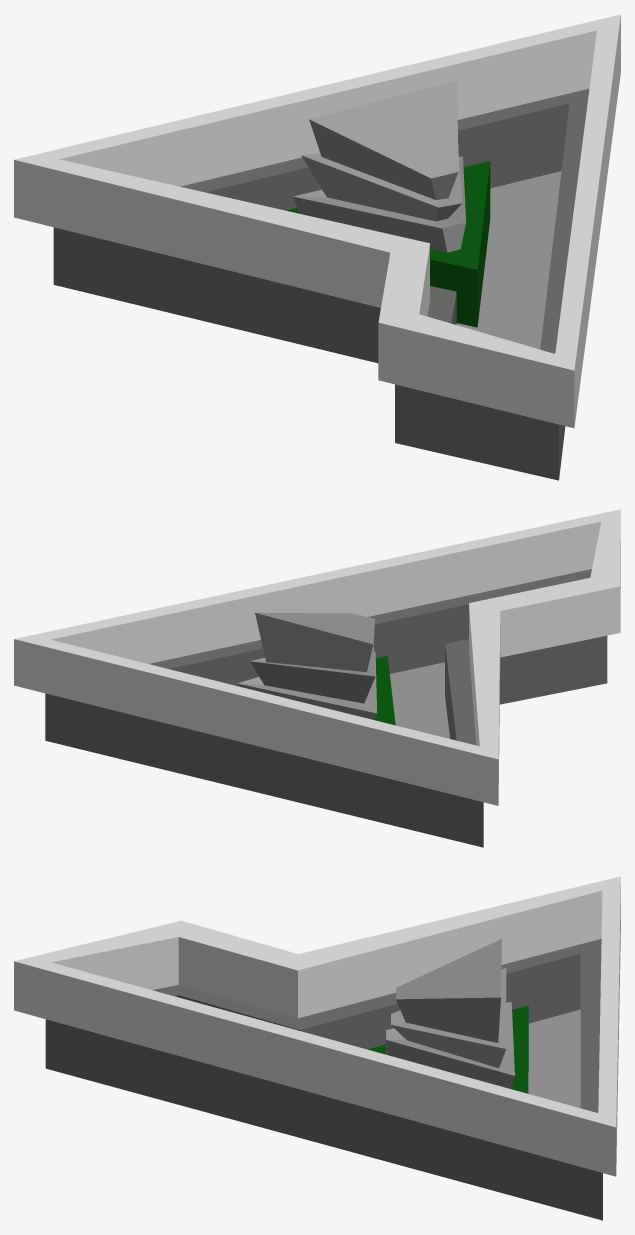
The model's file is level0_1.fbx.
3 renders of one model, top to bottom at view 1: azimuth 30°, elevation 25°; view 2: azimuth 150°, elevation 25°; view 3: azimuth 270°, elevation 25°, orthographic. The views are drawn at different scales.
Parts seen in each view (by area): view 1: 0-1_upper_wall, 0-1_lower_wall, 0-1_pillar_green_top, 0-1_floor, 0-1_pillar_green; view 2: 0-1_upper_wall, 0-1_lower_wall, 0-1_pillar_green_top, 0-1_floor, 0-1_pillar_green; view 3: 0-1_upper_wall, 0-1_lower_wall, 0-1_pillar_green_top, 0-1_floor, 0-1_pillar_green.
Part boxes in pixels (x1,y1,x2,y2): 0-1_upper_wall: [14, 14, 620, 428]; 0-1_lower_wall: [53, 88, 589, 480]; 0-1_pillar_green_top: [293, 81, 466, 252]; 0-1_floor: [456, 171, 561, 349]; 0-1_pillar_green: [286, 161, 490, 327]; 0-1_upper_wall: [14, 509, 620, 805]; 0-1_lower_wall: [45, 569, 607, 847]; 0-1_pillar_green_top: [237, 612, 377, 720]; 0-1_floor: [390, 662, 449, 738]; 0-1_pillar_green: [375, 656, 395, 725]; 0-1_upper_wall: [14, 876, 620, 1176]; 0-1_lower_wall: [45, 939, 602, 1220]; 0-1_pillar_green_top: [386, 939, 514, 1088]; 0-1_floor: [528, 1009, 580, 1108]; 0-1_pillar_green: [367, 1005, 528, 1093].
Bounding box in the file's own units: 23.55 × 6.44 × 24.05.
